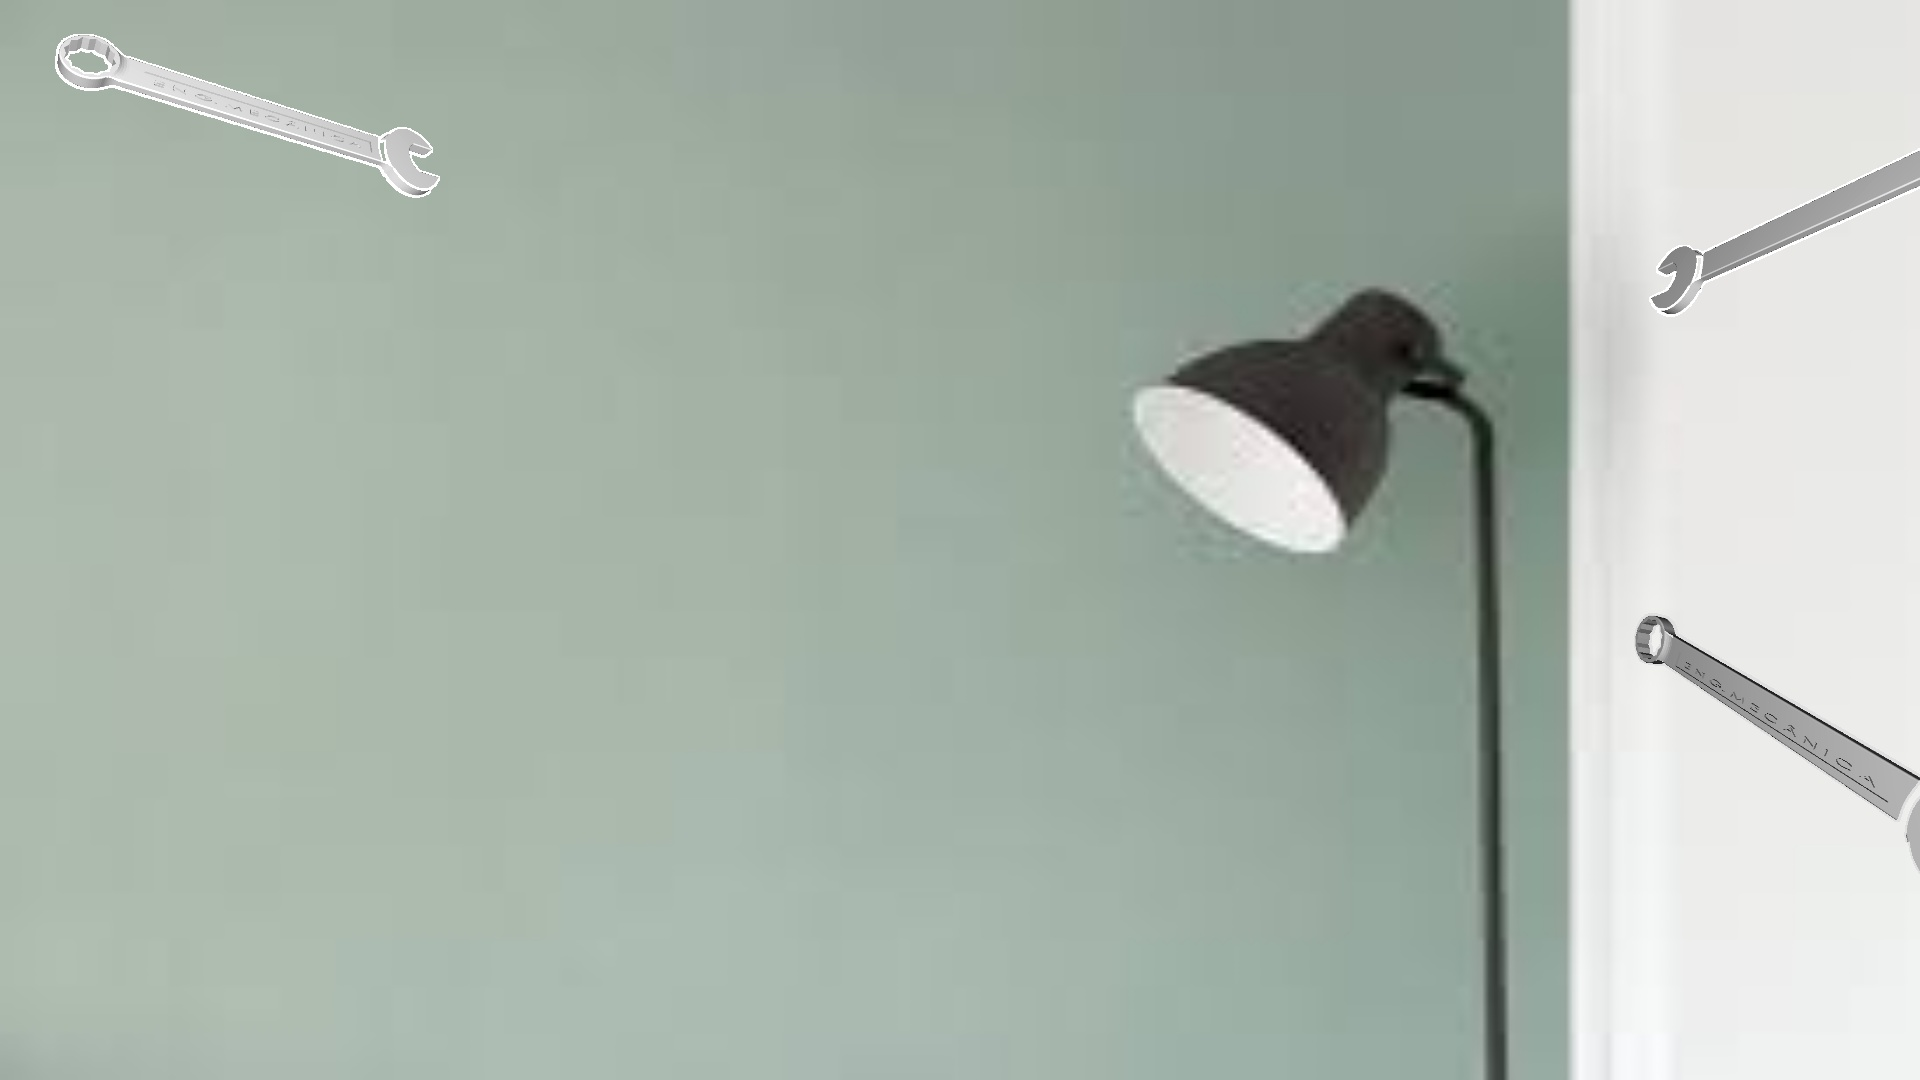Mixed Key: (1634, 613, 1919, 873), (55, 34, 439, 196), (1650, 148, 1919, 316)
